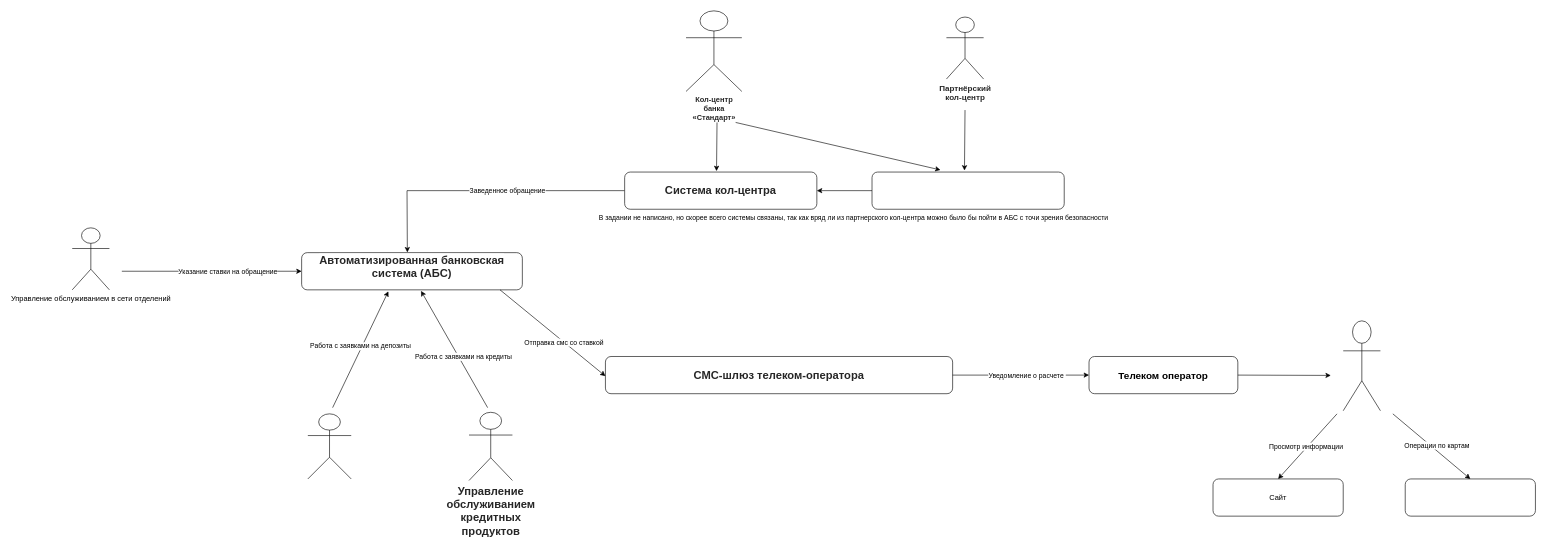
The diagram is 1546 pixels wide and 549 high, and some of its shapes have lost their labels. The box of each missing label's shape, as (x1, y1, x2, y2) in pixels:
Банк: (1405, 478, 1535, 516)
Клиент: (1343, 320, 1380, 411)
Система партнёрского кол-центра: (871, 171, 1064, 209)
Управление обслуживанием депозитных продуктов: (307, 413, 351, 479)
